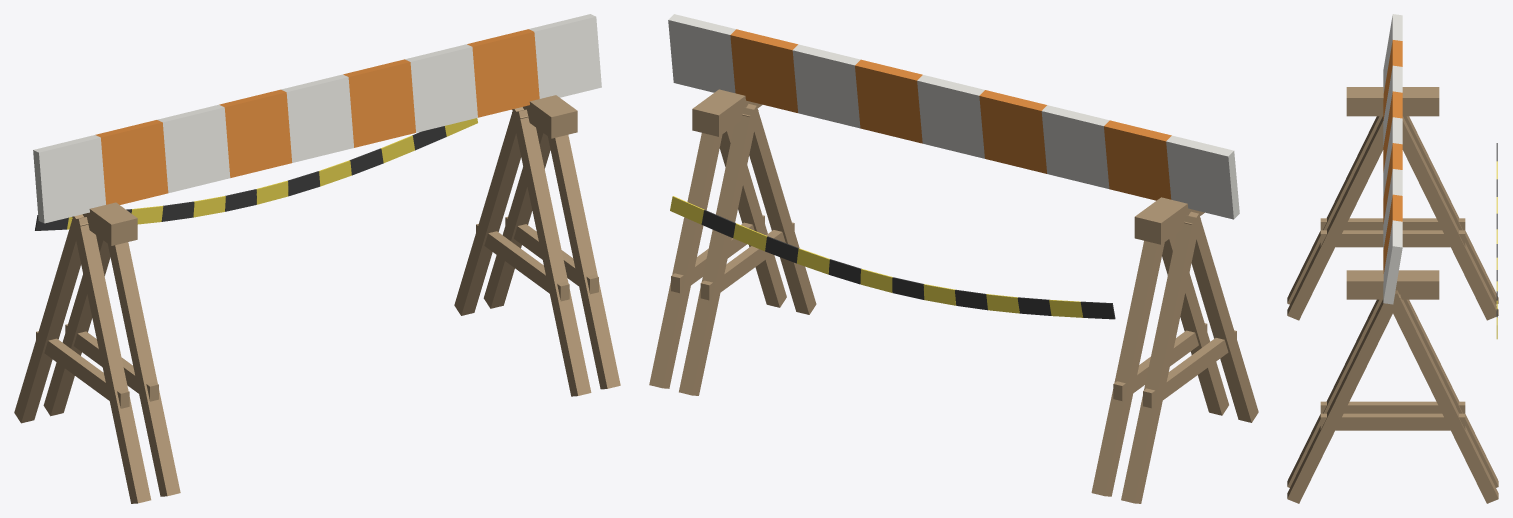
Rendered from sawhorse_barrier.glb.
The picture shows the model from 3 angles, left to right: view 1: azimuth 30°, elevation 25°; view 2: azimuth 150°, elevation 25°; view 3: azimuth 270°, elevation 25°; orthographic projection. The views are drawn at different scales.
Visible parts, largest first — view 1: Sawhorse_Barrier; view 2: Sawhorse_Barrier; view 3: Sawhorse_Barrier.
Part boxes in pixels (left/top/right/bottom): Sawhorse_Barrier: left=14, top=14, right=620, bottom=503; Sawhorse_Barrier: left=649, top=14, right=1258, bottom=503; Sawhorse_Barrier: left=1287, top=14, right=1498, bottom=503.
Size of the model in its own units: 1.9 by 1.04 by 0.7318.
